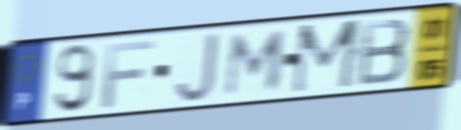9: (52, 42, 98, 117)
B: (355, 16, 413, 90)
F: (99, 38, 157, 111)
J: (172, 30, 221, 104)
M: (288, 16, 365, 98), (221, 28, 291, 99)
